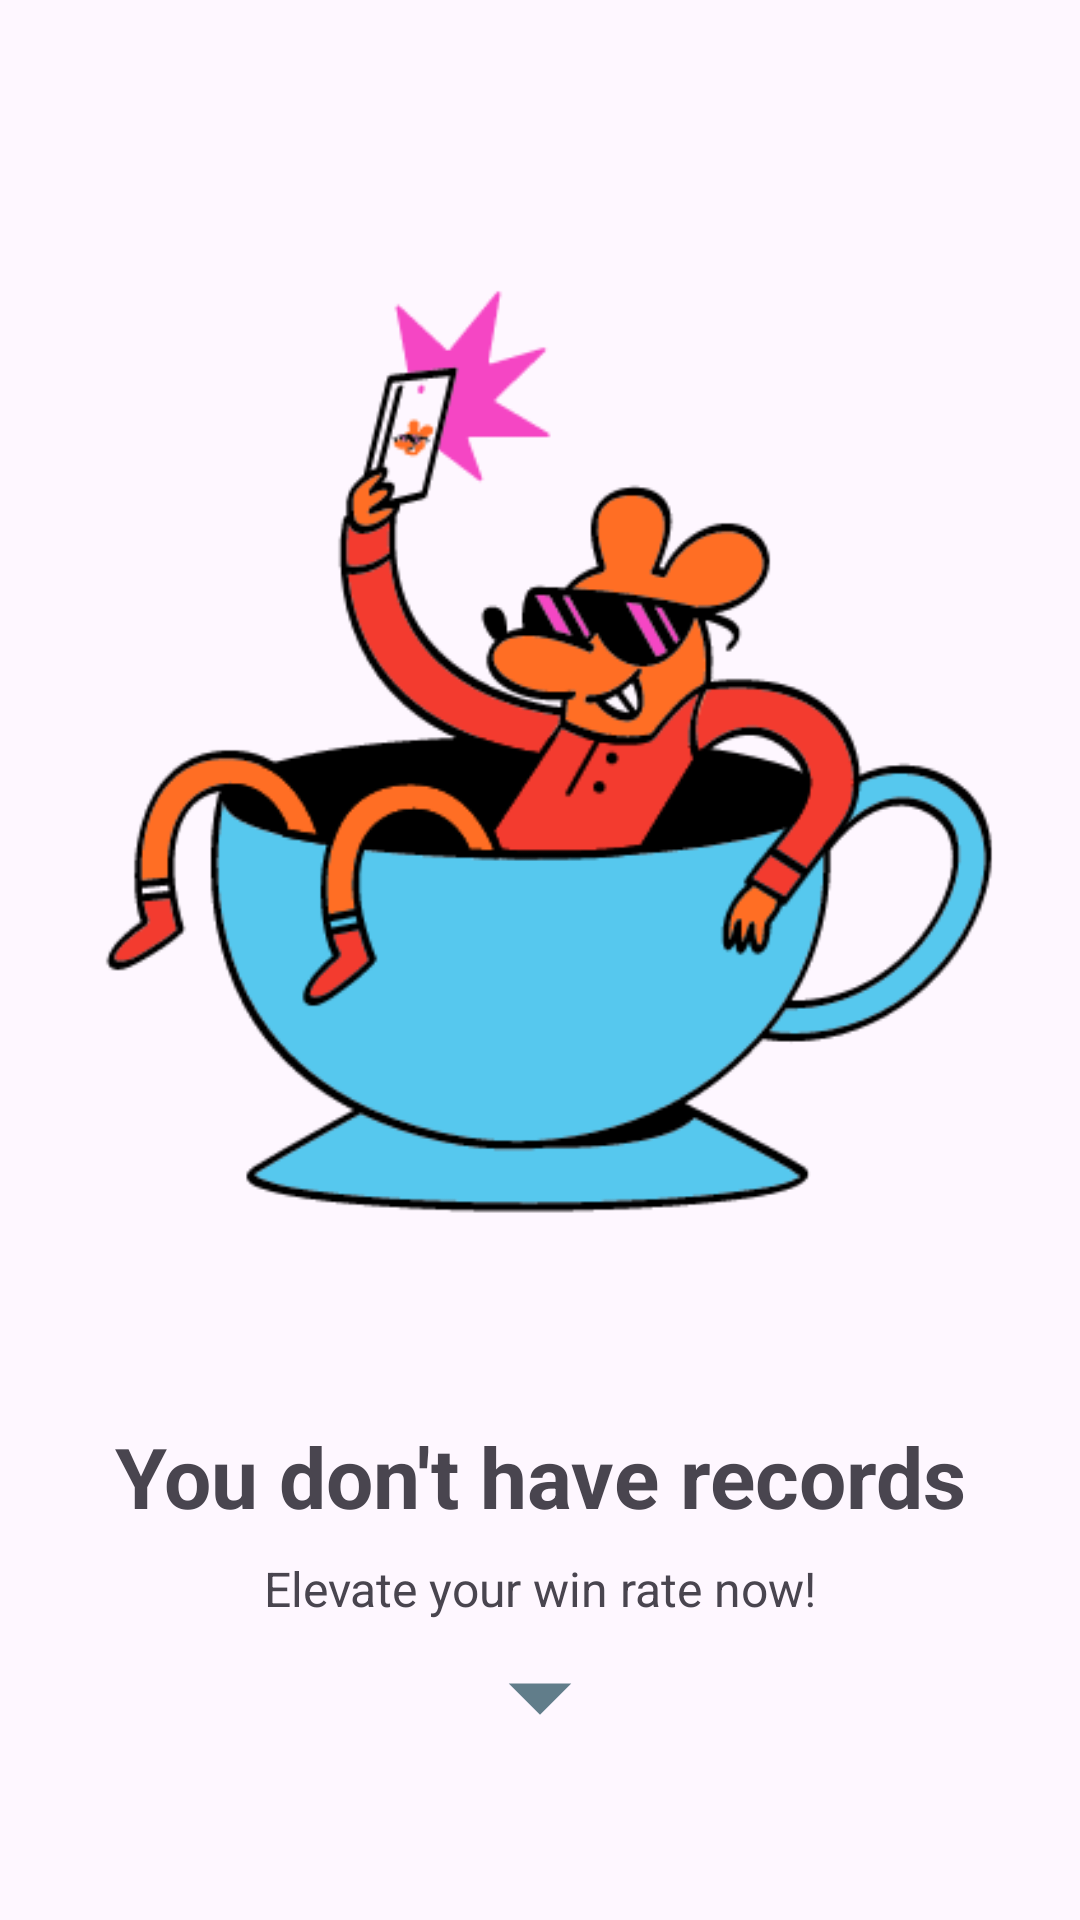

Icon click points for this 1080×1920 phone screenshot, format point (x, y):
arrow drop down: point (540, 1699)
